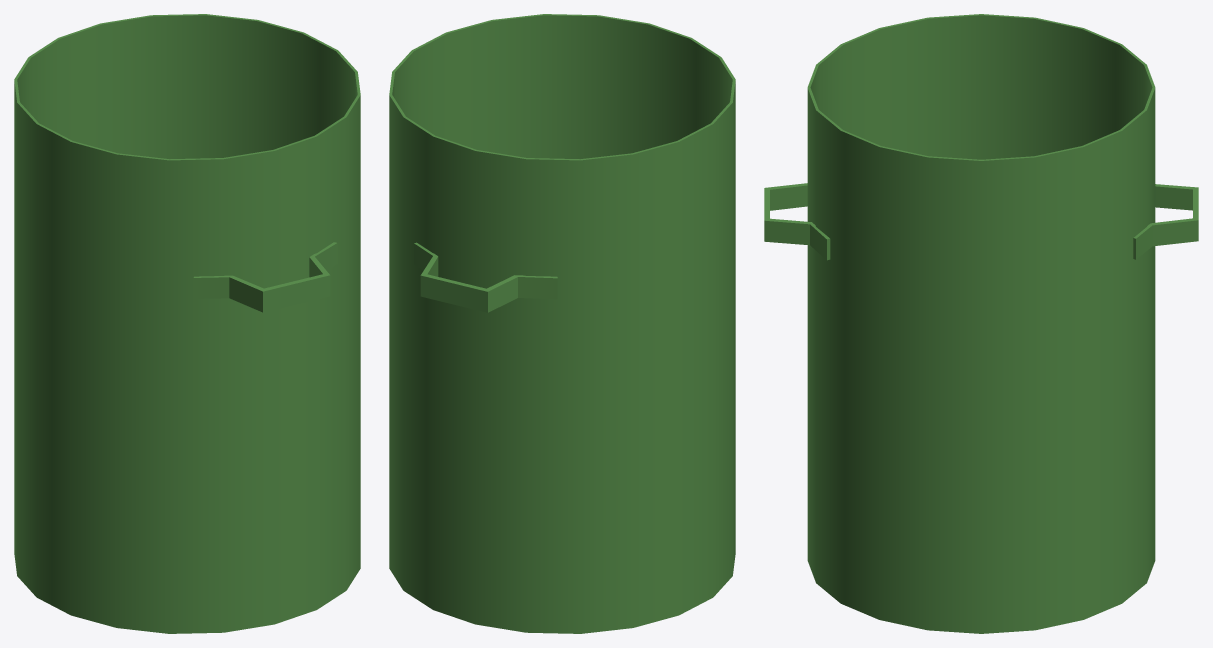
The model's file is trash.FBX.
3 views of the same model, side by side, from view 1: azimuth 30°, elevation 25°; view 2: azimuth 150°, elevation 25°; view 3: azimuth 270°, elevation 25° (orthographic).
Visible parts, largest first — view 1: Object340; view 2: Object340; view 3: Object340.
Part boxes in pixels (x1,y1,x2,y2): Object340: [14, 14, 360, 633]; Object340: [389, 14, 735, 633]; Object340: [764, 14, 1198, 633].
Size of the model in its own units: 0.6 by 0.9 by 0.7492.
